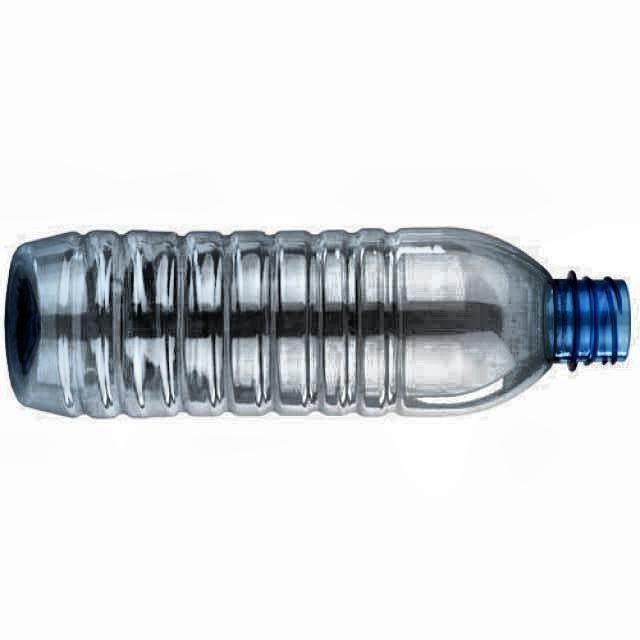plastic: (5, 228, 631, 417)
